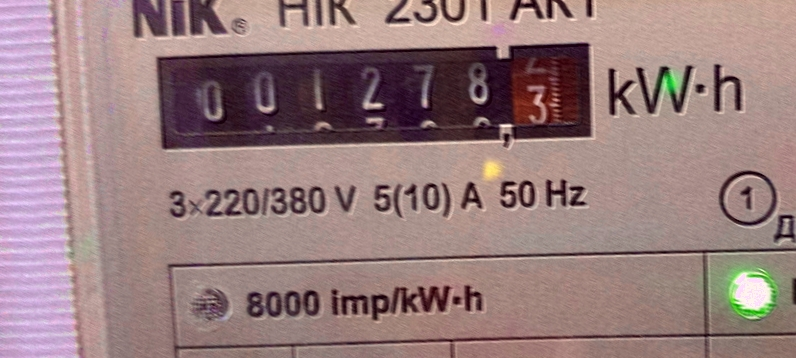0: (198, 75, 227, 123), (250, 68, 278, 116)
1: (308, 63, 328, 111)
2: (357, 64, 385, 112), (522, 54, 547, 75)
3: (522, 81, 551, 126)
7: (410, 61, 434, 109)
8: (465, 60, 491, 105)
screen: (138, 12, 612, 179)
